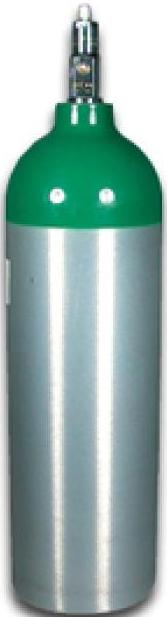cylinder: (1, 1, 167, 617)
